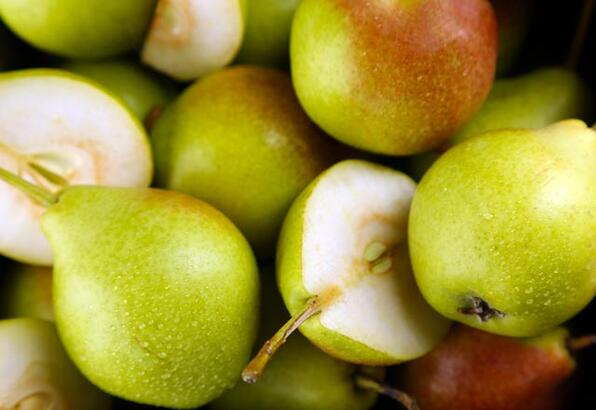pear: (40, 191, 260, 405), (409, 119, 596, 329)
